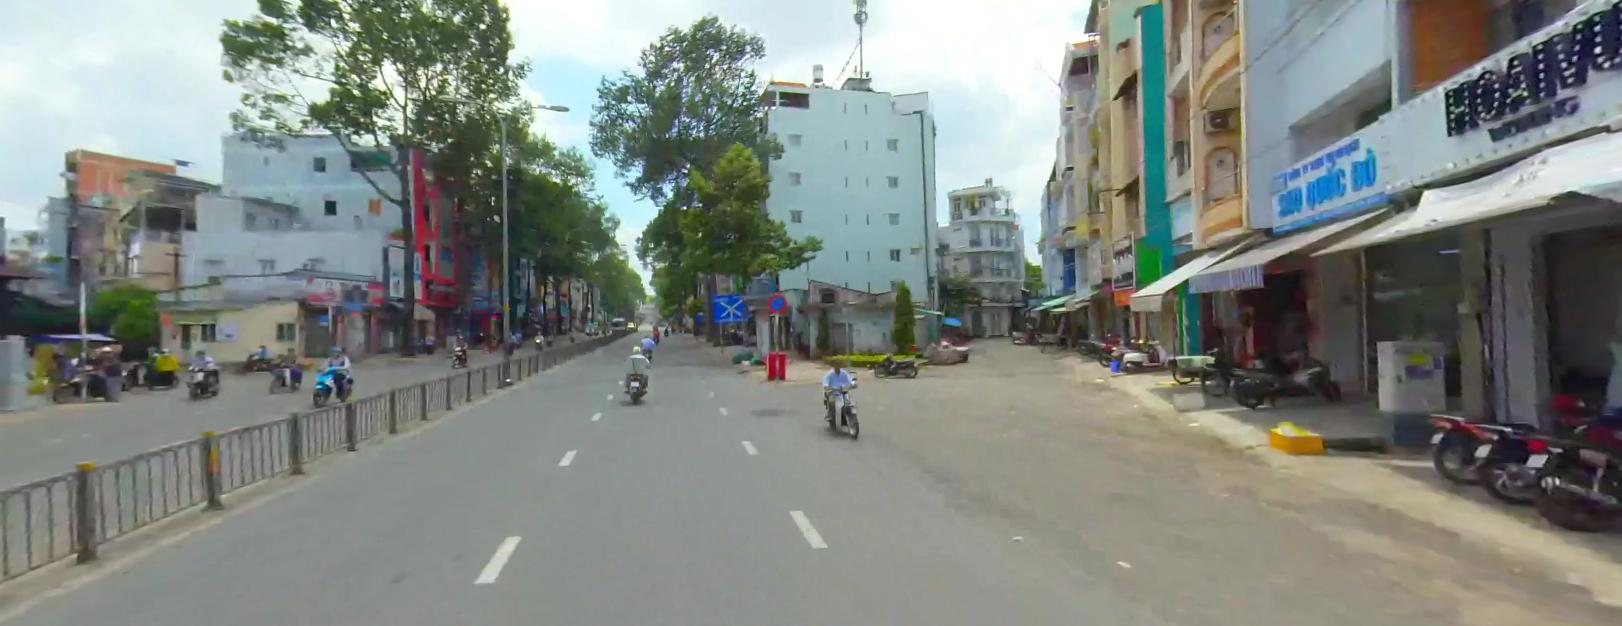Cam dung va do: (768, 292, 787, 311)
